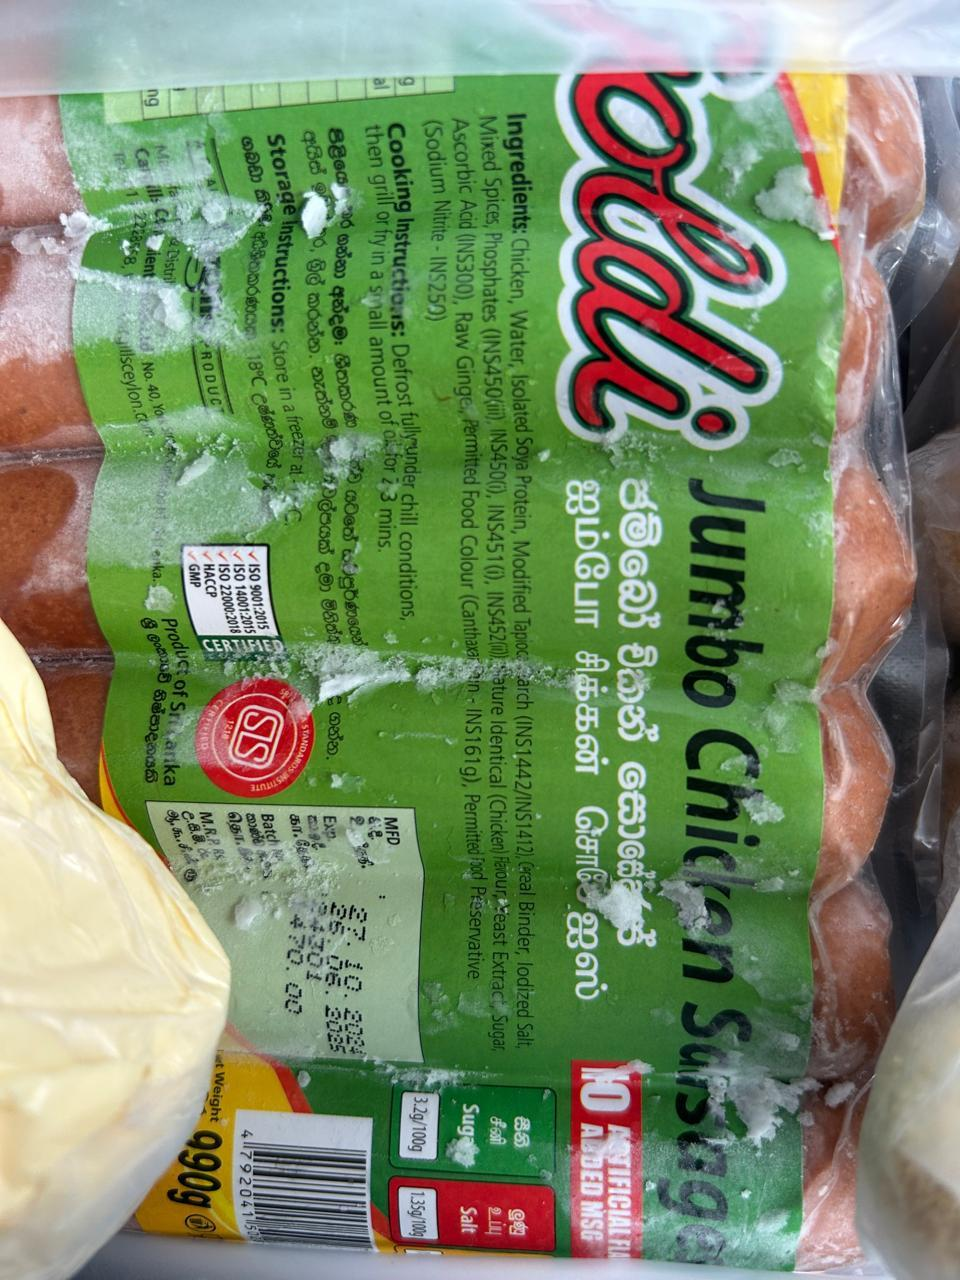ingredients: (66, 545, 840, 724)
